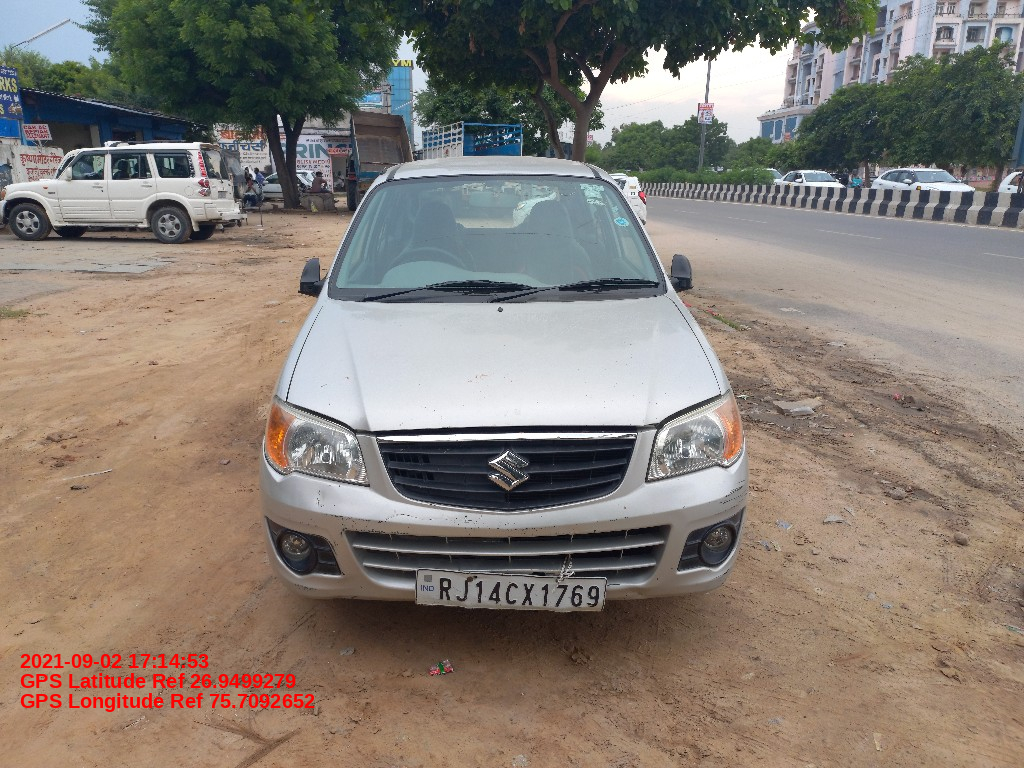Pressed: (614, 583, 657, 602), (313, 487, 332, 512)
Scratched: (435, 514, 553, 535), (721, 477, 749, 511), (310, 532, 347, 556), (604, 503, 634, 523), (287, 581, 324, 594), (378, 509, 420, 519), (713, 562, 735, 579), (349, 585, 367, 603)
